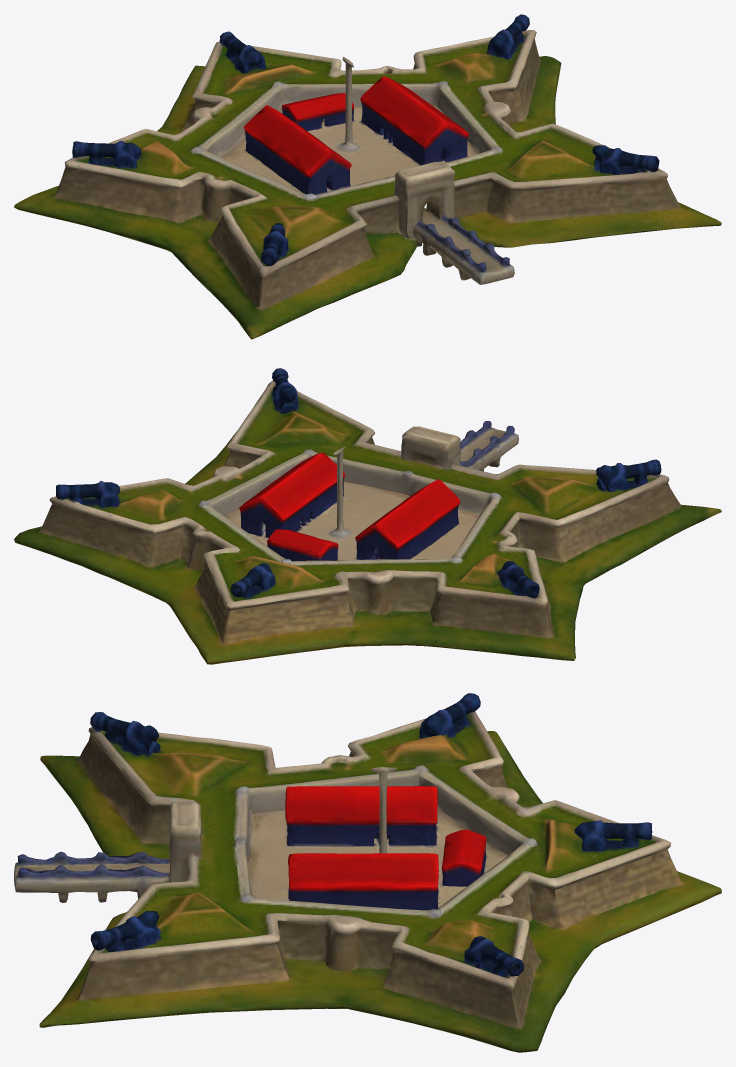
Rendered from starfort_b.glb.
The picture shows the model from 3 angles, top to bottom: view 1: azimuth 30°, elevation 25°; view 2: azimuth 150°, elevation 25°; view 3: azimuth 270°, elevation 25°; orthographic projection. The views are drawn at different scales.
Parts seen in each view (by area): view 1: world; view 2: world; view 3: world.
Part boxes in pixels (box(x1,y1,x2,y2)): world: box(14, 14, 721, 339); world: box(14, 368, 721, 664); world: box(14, 693, 721, 1052).
Bounding box in the file's own units: 1 × 0.2151 × 0.9403.
Materials: 1 (1 with a texture image).
